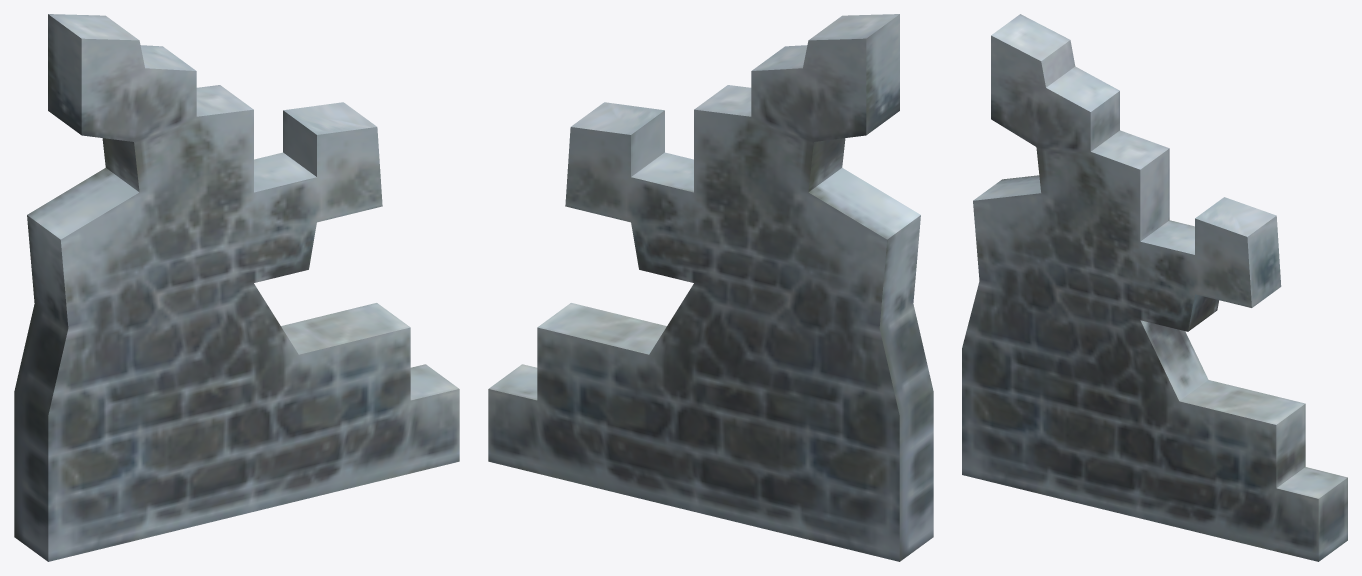
File: rzjd_poqiang_03.FBX
3 renders of one model, left to right at view 1: azimuth 30°, elevation 25°; view 2: azimuth 150°, elevation 25°; view 3: azimuth 330°, elevation 25°, orthographic. The views are drawn at different scales.
Parts seen in each view (by area): view 1: rzjd_poqiang_03; view 2: rzjd_poqiang_03; view 3: rzjd_poqiang_03.
Boxes of the visible parts, <box> form: rzjd_poqiang_03: <box>14,14,459,561</box>; rzjd_poqiang_03: <box>488,14,933,561</box>; rzjd_poqiang_03: <box>962,14,1347,561</box>.
Bounding box in the file's own units: 189 × 226 × 26.84.
